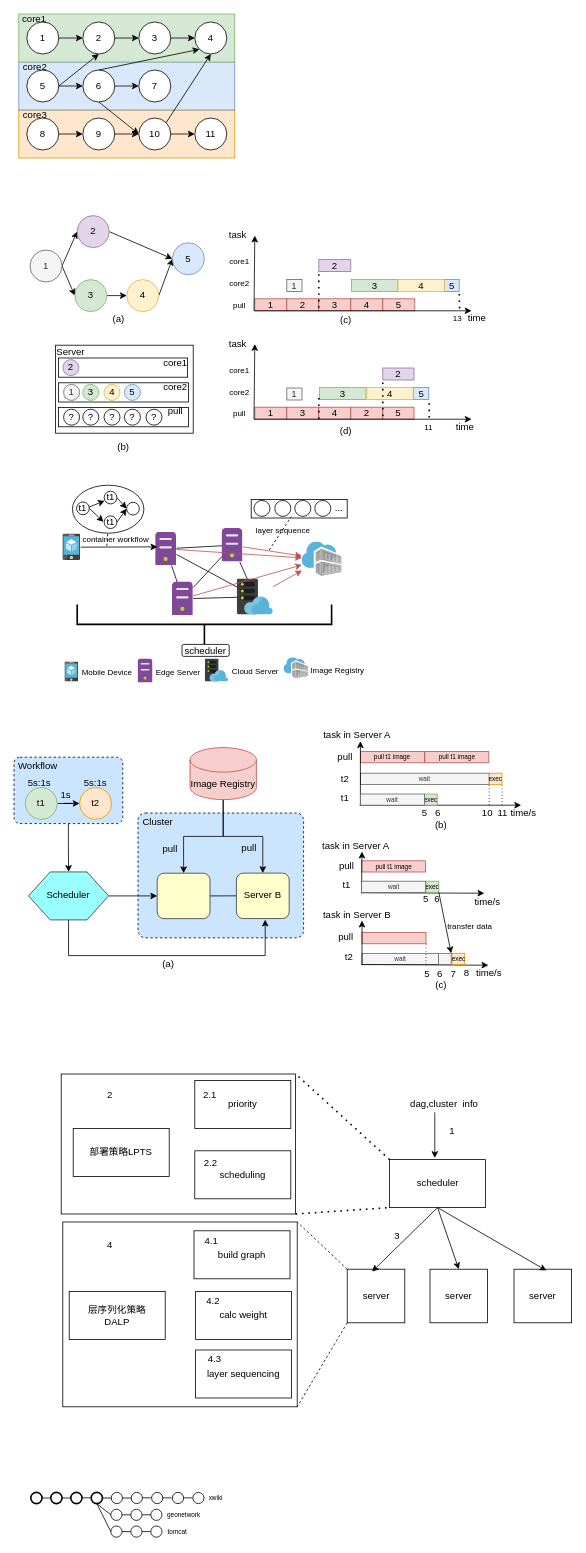
Image size: 586x1553. Some labels were removed from this diagram. The shapes that lost their labels are listed below. From the top down, each one's centre as x and y in pixels, then its label:
the point at 132,508: t4
the point at 183,895: Server A
the point at 393,938: pull t2 image
the point at 444,959: data
